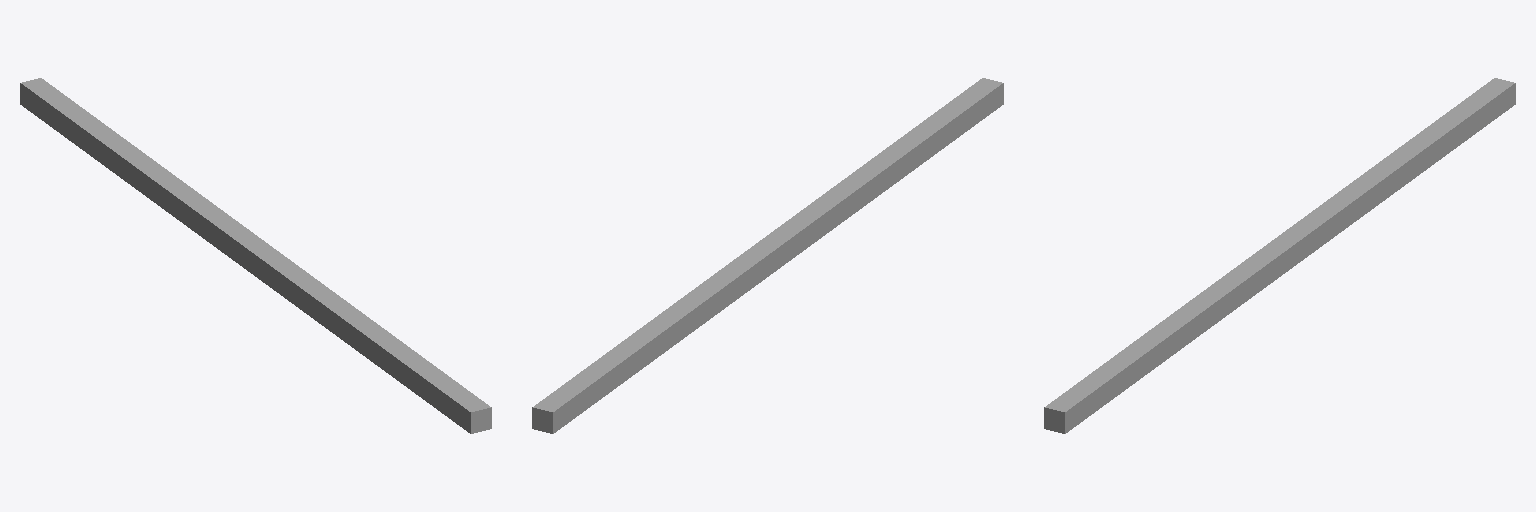
robot.urdf — gate:
<robot name="gate">
  <link name="gate">
    <inertial>
      <origin rpy="0 0 0" xyz="0.9 0.1 0"/>
      <mass value="10"/>
      <inertia ixx="0" ixy="0" ixz="0" iyy="0" iyz="0" izz="0"/>
    </inertial>
    <visual>
      <origin rpy="0 0 0" xyz="0 0 0"/>
      <geometry>
        <mesh filename="package://gate/meshes/gate.dae"/>
      </geometry>
    </visual>
    <collision>
      <origin rpy="0 0 0" xyz="0 0 0"/>
      <geometry>
        <mesh filename="package://gate/meshes/gate.dae"/>
      </geometry>
    </collision>
  </link>
</robot>

--- What the picture shows (computed from the rendered views, not written in the file) ---
The picture shows the robot from 3 angles, left to right: view 1: azimuth 30°, elevation 25°; view 2: azimuth 150°, elevation 25°; view 3: azimuth 330°, elevation 25°; orthographic projection.
Robot: gate — 1 links, 0 joints (none); root link gate; default pose: all joints at 0.
Visible links, largest first — view 1: gate; view 2: gate; view 3: gate.
Link boxes in pixels (x1,y1,x2,y2): gate: (20, 78, 491, 433); gate: (532, 78, 1003, 433); gate: (1044, 78, 1515, 433).
Bounding box of the posed robot: 40 × 1500 × 40 m (x, y, z).
1 mesh visuals loaded from 1 distinct referenced files (1 Collada DAE).